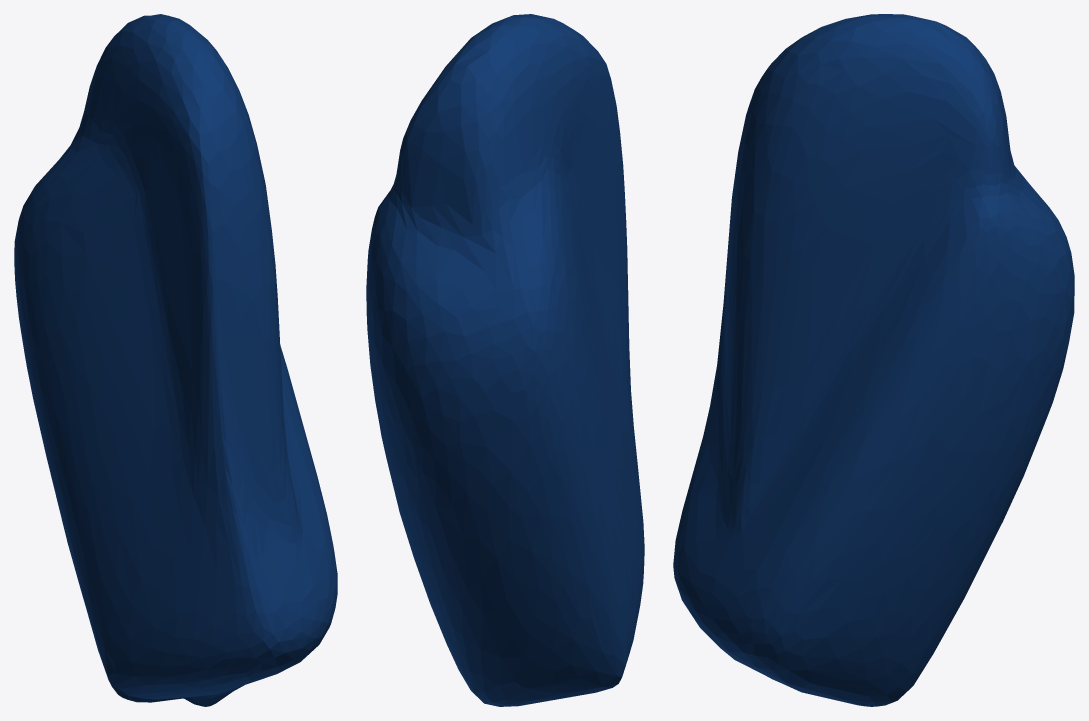
The picture shows the model from 3 angles, left to right: view 1: azimuth 30°, elevation 25°; view 2: azimuth 150°, elevation 25°; view 3: azimuth 270°, elevation 25°; orthographic projection. The views are drawn at different scales.
Visible parts, largest first — view 1: 885_Cube.3575; view 2: 885_Cube.3575; view 3: 885_Cube.3575.
Part boxes in pixels (left/top/right/bottom): 885_Cube.3575: left=14, top=14, right=337, bottom=706; 885_Cube.3575: left=366, top=14, right=644, bottom=706; 885_Cube.3575: left=673, top=14, right=1074, bottom=706.
Bounding box in the file's own units: 5.49 × 16.16 × 8.62.
